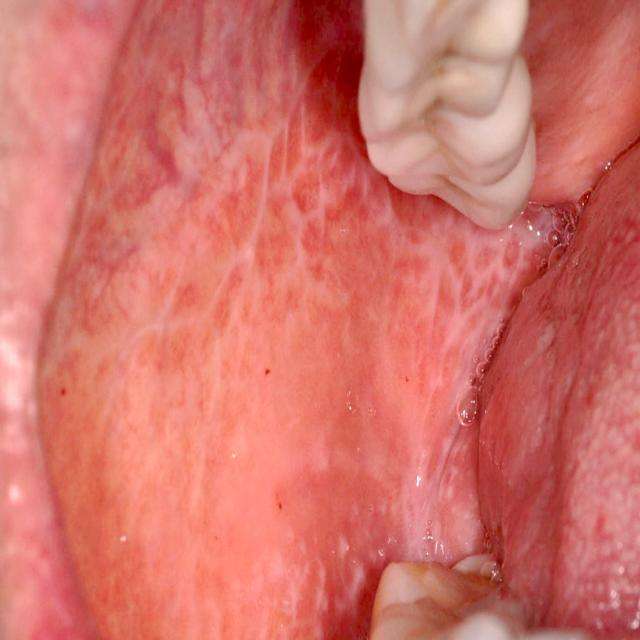leukoplakia-like-detection: (38, 0, 565, 639)
processing_area: (0, 0, 639, 639)
